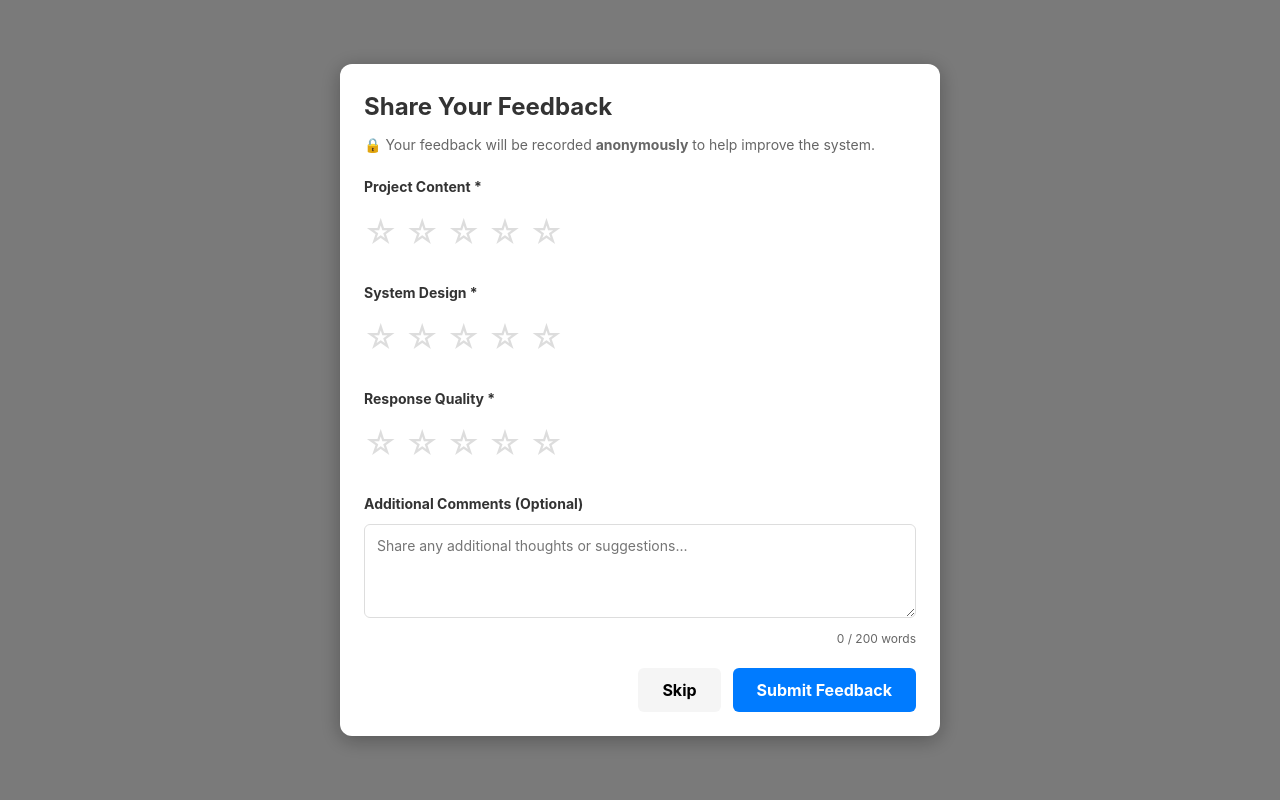
Test case: FeedbackModal › Validation › shows validation error when ratings are missing
Click the button "Submit Feedback" at (824, 690), box left=733, top=668, right=916, bottom=712
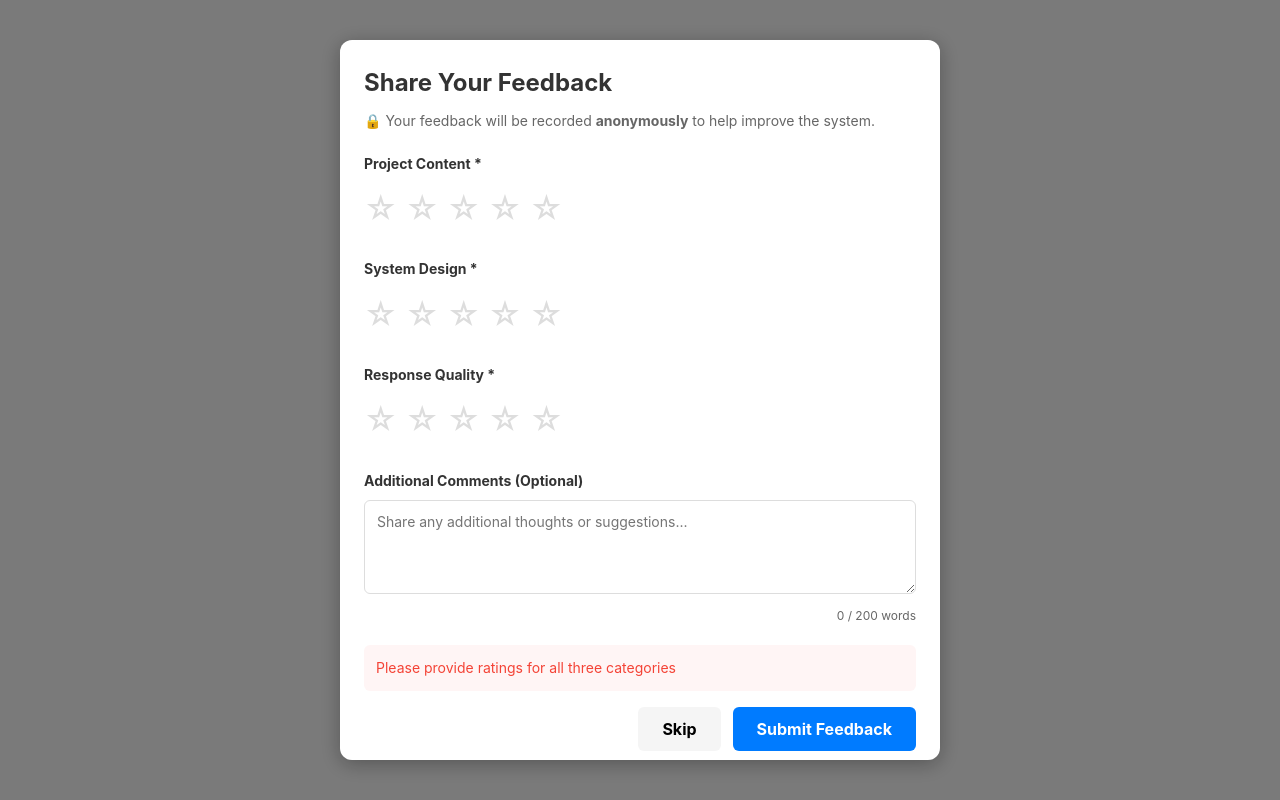
Result: the text "Please provide ratings for all three categories" is shown at left=364, top=645, right=916, bottom=691
